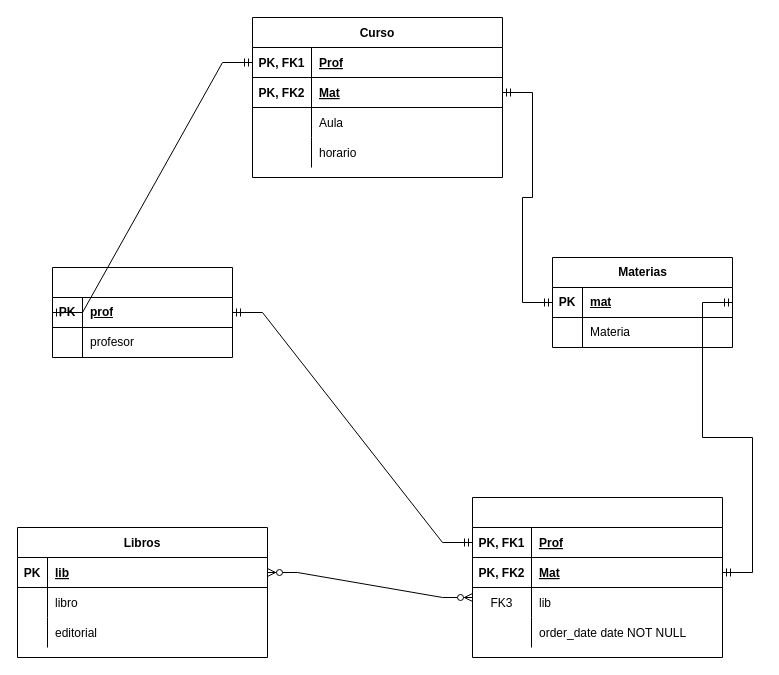
The diagram is 779 pixels wide and 675 high, and some of its shapes have lost their labels. The box of each missing label's shape, as (x1, y1, x2, y2) in pixels:
Profesores: (52, 266, 232, 358)
Profesores_Materias: (472, 496, 722, 658)
